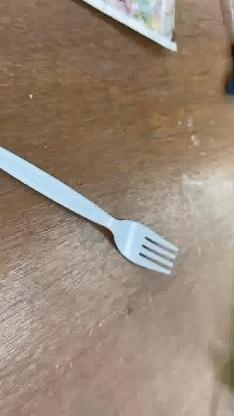Others: (0, 142, 182, 278)
